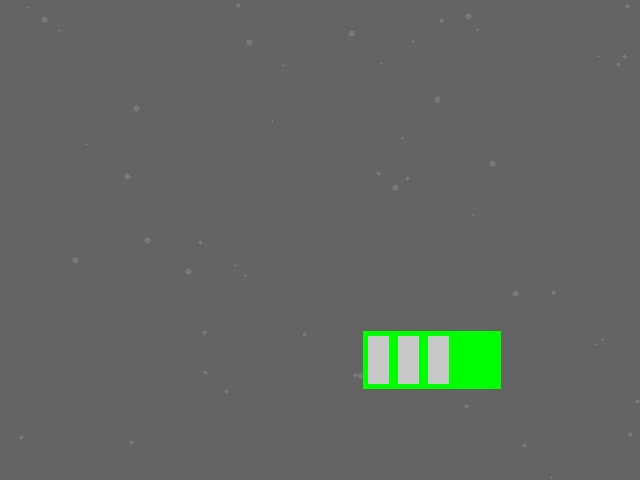bus: (363, 331, 500, 388)
